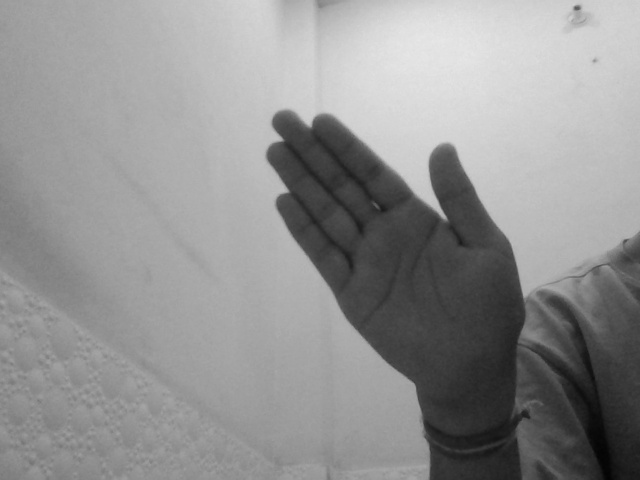Hello: (258, 104, 529, 419)
